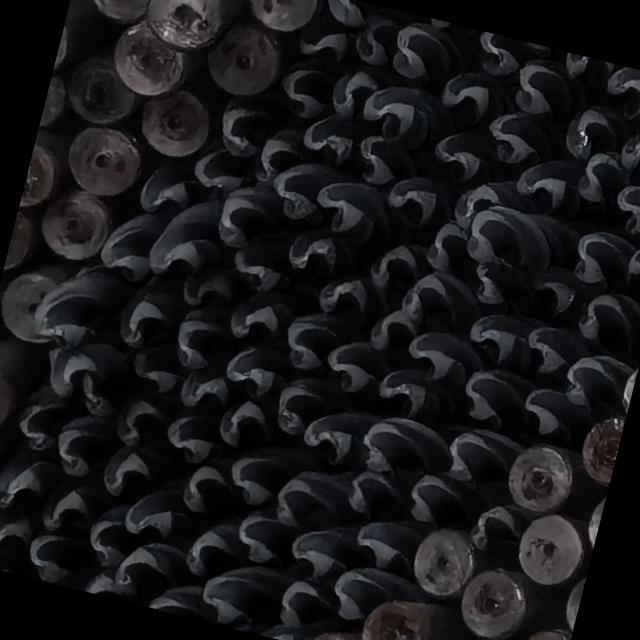tool: (103, 12, 193, 100), (58, 42, 146, 130), (200, 17, 288, 102), (130, 82, 218, 164), (60, 118, 146, 201), (34, 180, 116, 266), (512, 507, 594, 592), (454, 561, 534, 640), (502, 436, 580, 517), (406, 520, 479, 602), (138, 0, 235, 57), (0, 269, 68, 347), (16, 132, 64, 220), (576, 406, 626, 482), (354, 596, 438, 640), (240, 0, 322, 35), (37, 62, 74, 137), (75, 0, 161, 30), (2, 210, 38, 278), (557, 566, 588, 634), (0, 360, 20, 440), (513, 617, 573, 640)
tool_b: (354, 74, 464, 157), (36, 330, 132, 420), (144, 191, 232, 287), (308, 175, 409, 258), (194, 552, 289, 636), (356, 410, 454, 488), (220, 434, 308, 518), (426, 119, 512, 195), (436, 424, 522, 499), (385, 16, 469, 92), (268, 462, 351, 538), (402, 324, 489, 396), (397, 267, 484, 339), (296, 400, 376, 476), (484, 104, 568, 174), (508, 147, 588, 220), (378, 169, 459, 241), (211, 177, 285, 255), (460, 484, 533, 563), (372, 361, 458, 428), (110, 531, 188, 604), (457, 362, 535, 434), (558, 100, 636, 172), (392, 469, 476, 535), (435, 64, 514, 134), (265, 157, 339, 230), (272, 368, 346, 441), (512, 380, 590, 449), (318, 331, 392, 403), (120, 479, 196, 548), (166, 302, 236, 376), (295, 107, 371, 175), (566, 223, 638, 294), (179, 511, 249, 584), (506, 56, 580, 125), (283, 522, 360, 588), (558, 347, 631, 415), (229, 503, 301, 571), (24, 280, 92, 352), (347, 510, 422, 575), (467, 253, 542, 318), (224, 228, 295, 296), (48, 408, 113, 482), (274, 564, 342, 634), (280, 306, 346, 378), (272, 54, 339, 124), (282, 219, 358, 280), (464, 306, 532, 374), (572, 147, 634, 220), (572, 286, 640, 352), (522, 256, 588, 324), (224, 290, 296, 352), (341, 464, 412, 526), (354, 130, 425, 192), (90, 220, 156, 286), (359, 232, 427, 295), (8, 387, 68, 458), (112, 387, 176, 452), (170, 455, 236, 518), (96, 439, 159, 504), (214, 392, 280, 454), (18, 527, 84, 588), (459, 198, 519, 264), (314, 266, 382, 324), (158, 402, 220, 464), (124, 337, 184, 400), (450, 172, 510, 232), (348, 4, 402, 70), (132, 167, 196, 221), (80, 504, 132, 568), (416, 216, 473, 274), (325, 65, 379, 125), (38, 480, 94, 537), (366, 300, 422, 356), (520, 322, 574, 380), (598, 62, 640, 135), (112, 292, 162, 352), (212, 103, 263, 159), (466, 29, 524, 78), (176, 266, 235, 314), (252, 130, 300, 187), (177, 367, 230, 416), (184, 146, 239, 192), (0, 457, 46, 512), (290, 25, 350, 67), (608, 182, 640, 248), (146, 582, 202, 618), (615, 121, 640, 192), (0, 506, 35, 554), (619, 236, 640, 305), (321, 0, 367, 30)
